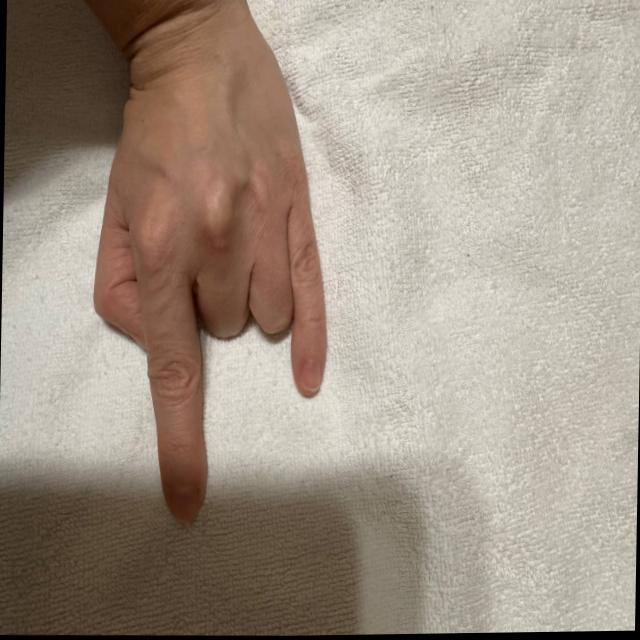y: (74, 33, 360, 538)
